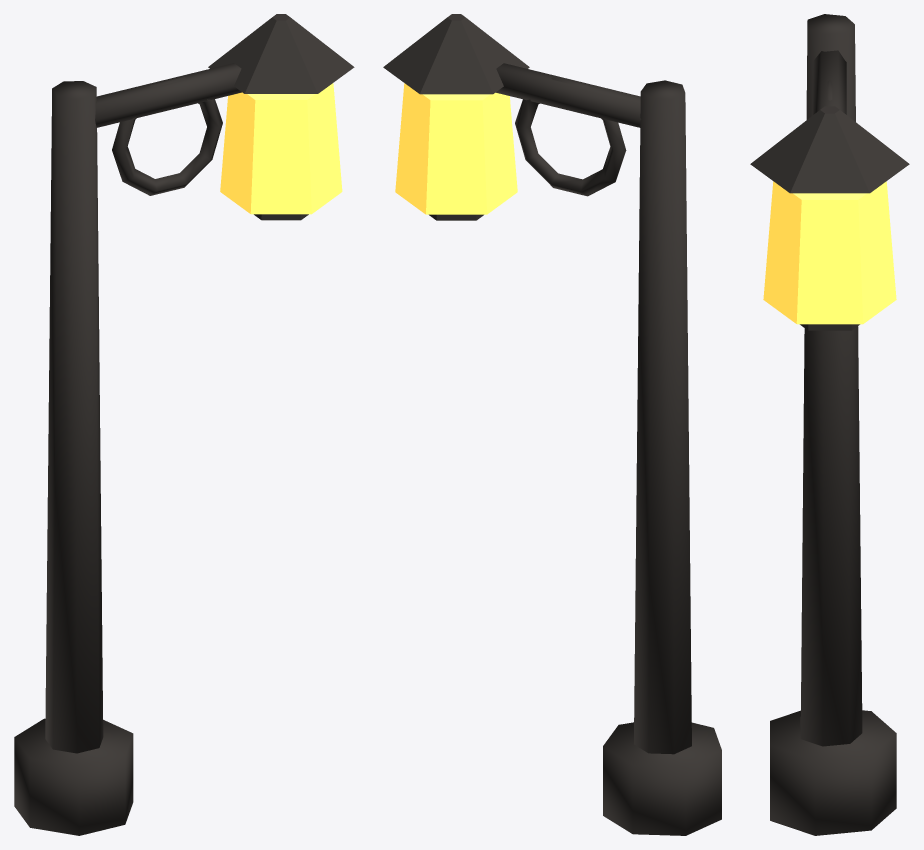
Rendered from lantern_post.glb.
3 renders of one model, left to right at view 1: azimuth 30°, elevation 25°; view 2: azimuth 150°, elevation 25°; view 3: azimuth 270°, elevation 25°, orthographic. The views are drawn at different scales.
Visible parts, largest first — view 1: lantern_post; view 2: lantern_post; view 3: lantern_post.
Boxes of the visible parts, x1,y1,x2,y2 form: lantern_post: (14, 14, 354, 835); lantern_post: (383, 14, 721, 835); lantern_post: (750, 14, 909, 835).
Size of the model in its own units: 1.18 by 2.68 by 0.48.
